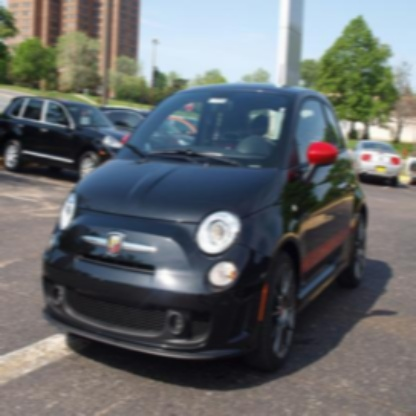Vehicle: (43, 84, 370, 374)
